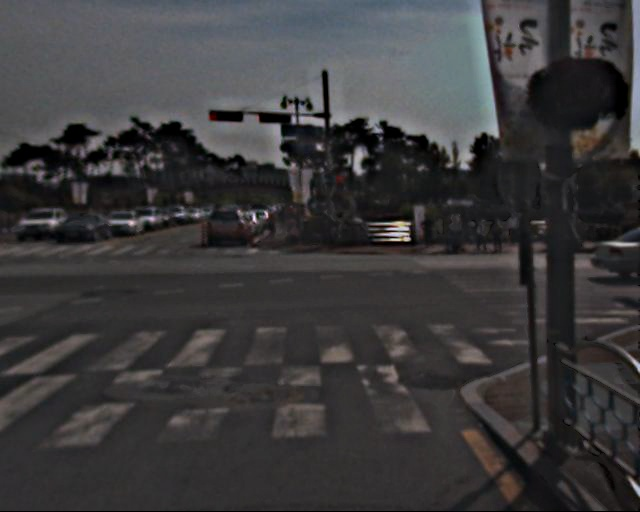person: (447, 206, 479, 252), (270, 203, 307, 240), (319, 208, 337, 253), (476, 215, 494, 258), (490, 214, 508, 257), (422, 212, 439, 254)
